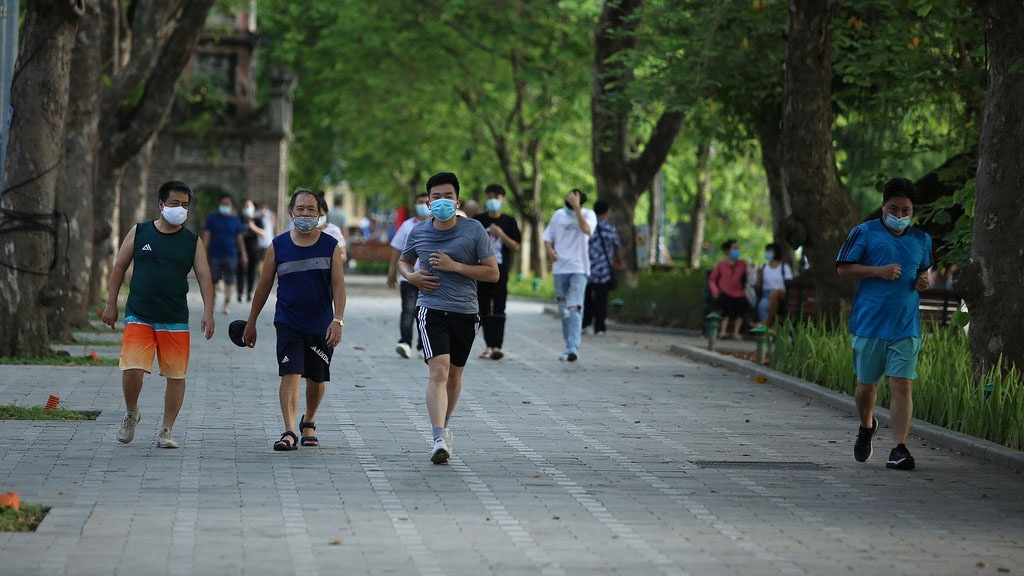person: (230, 178, 368, 459), (90, 176, 225, 463), (398, 170, 508, 474), (834, 170, 939, 485), (543, 183, 600, 367), (473, 181, 525, 364)
